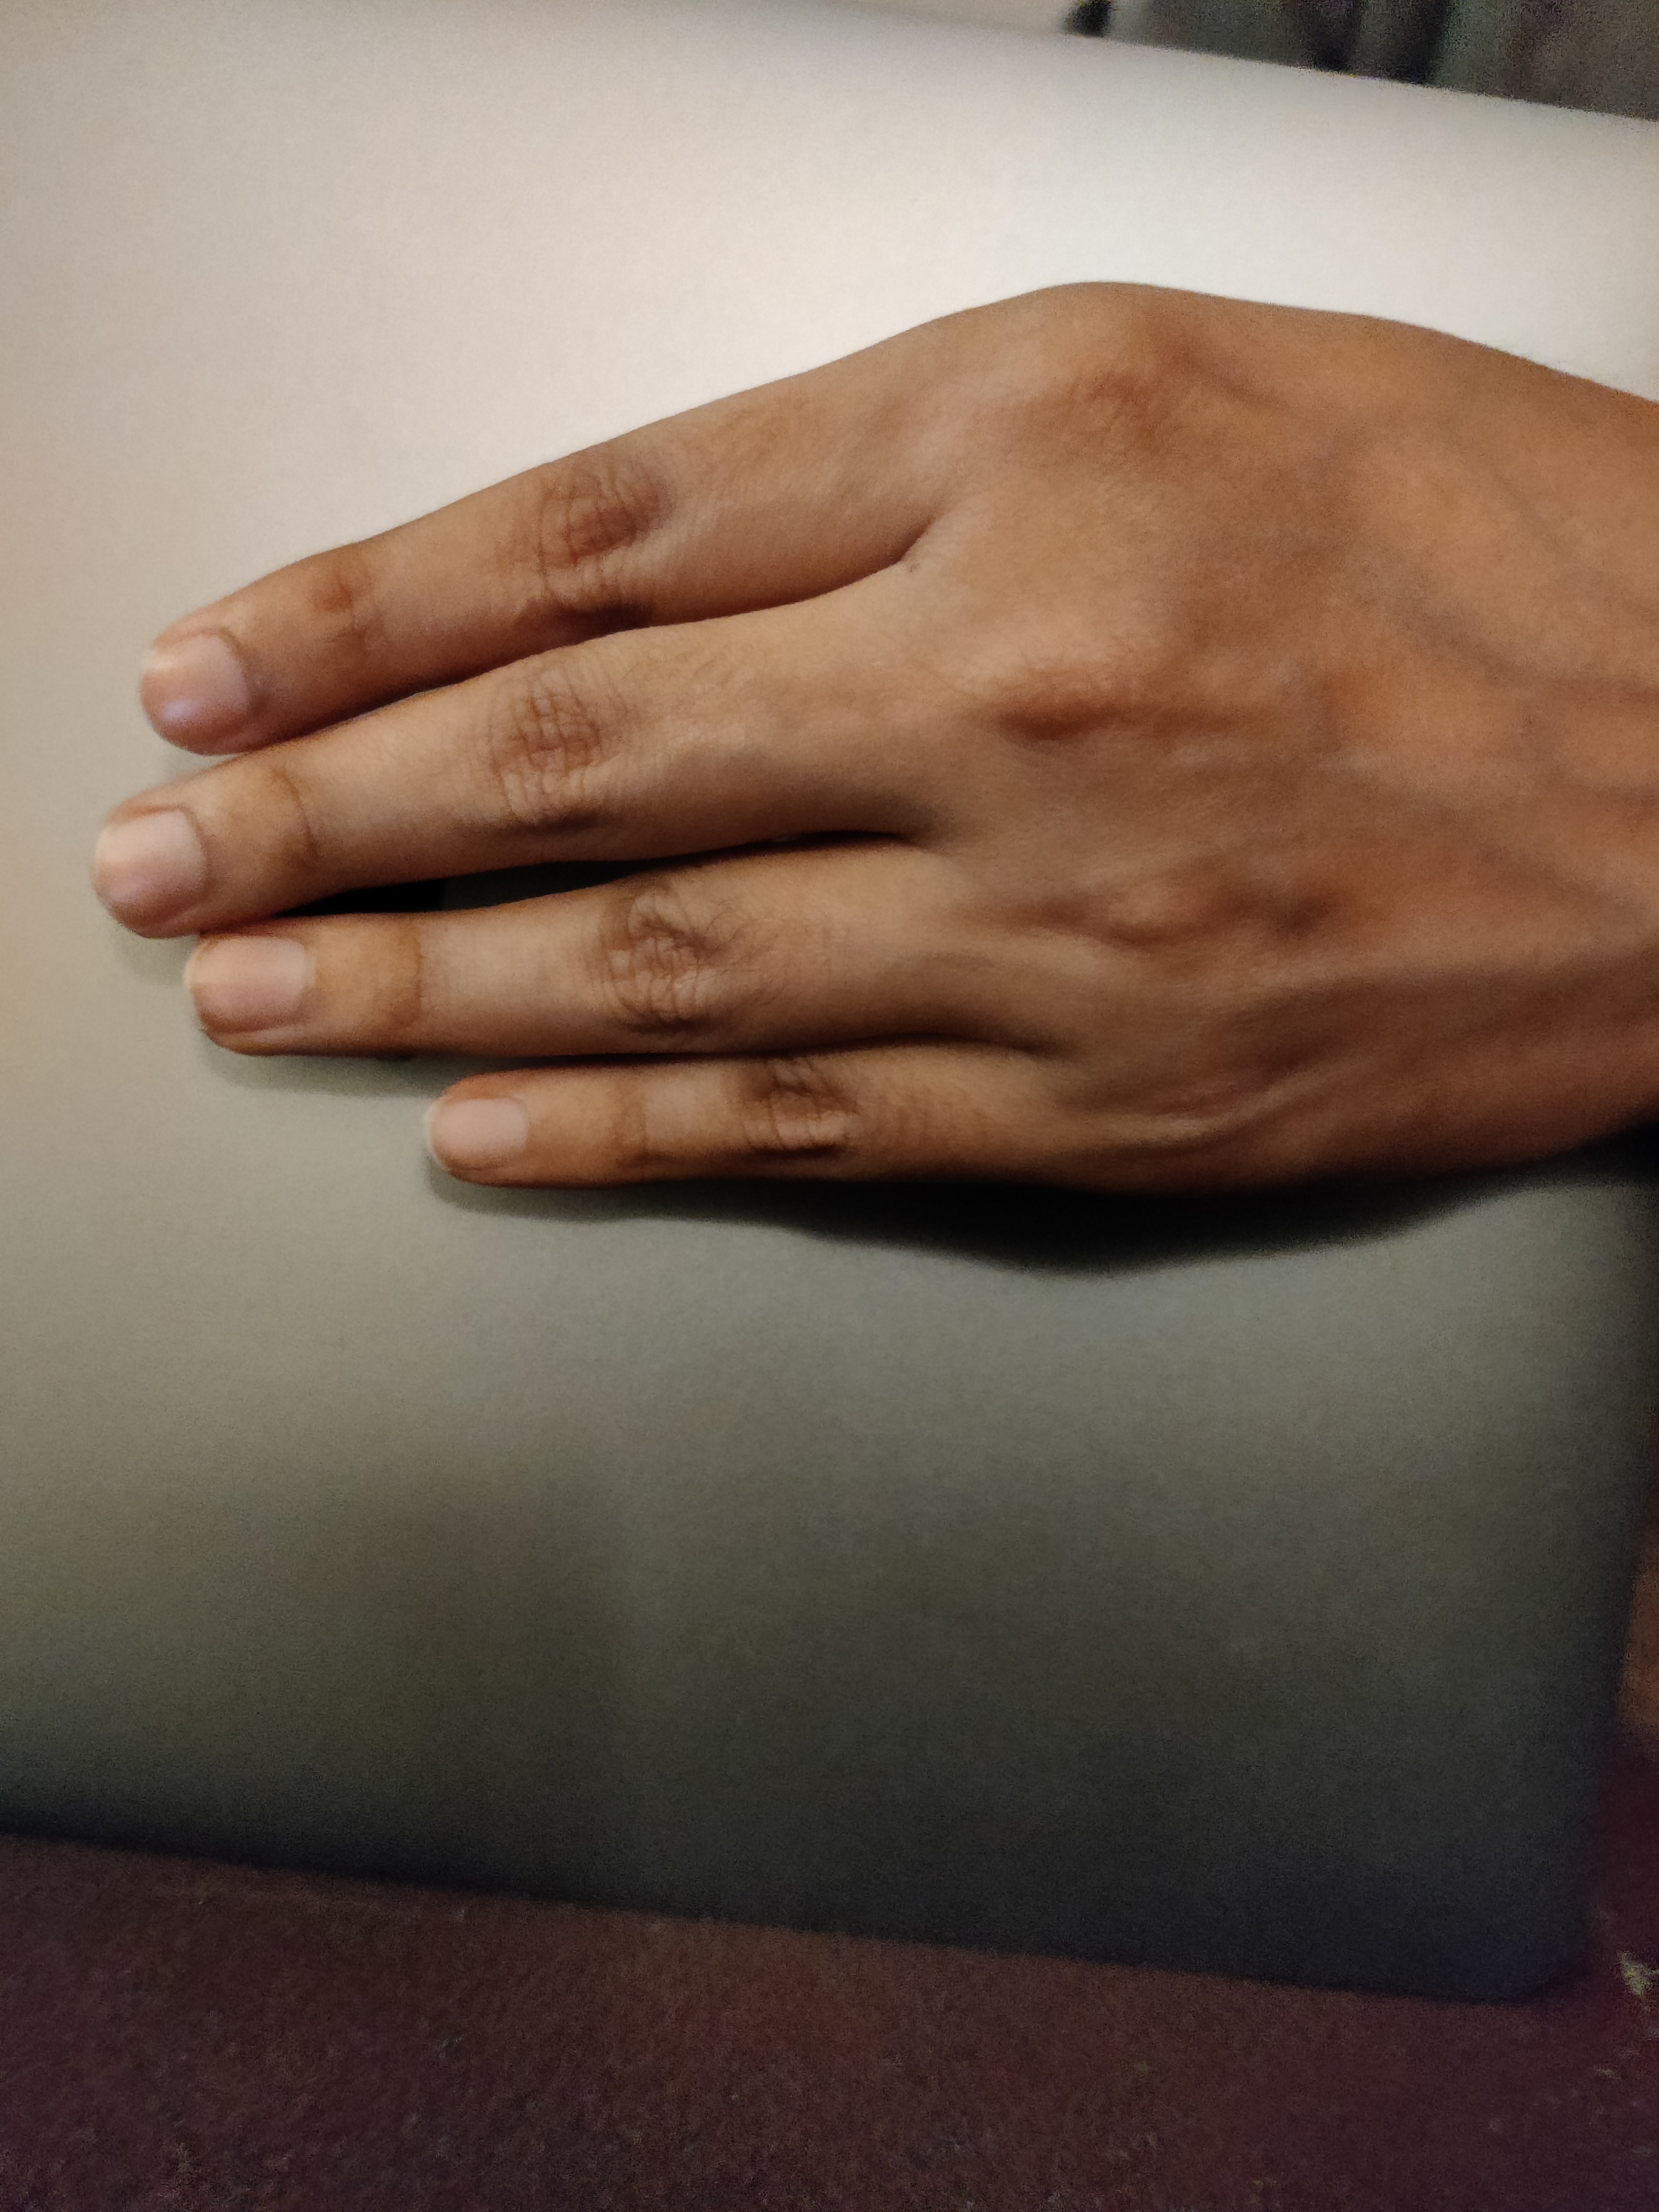right: (30, 138, 1622, 1390)
